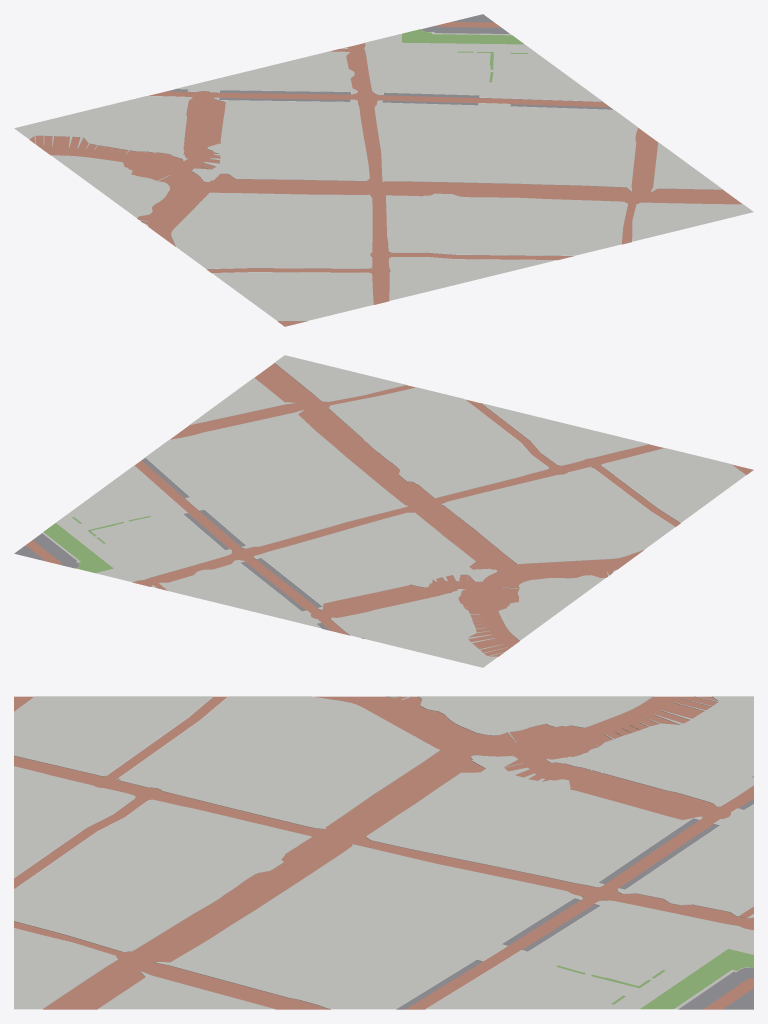
File: ground_8_9.glb
3 views of the same model, one above another, from view 1: azimuth 30°, elevation 25°; view 2: azimuth 150°, elevation 25°; view 3: azimuth 270°, elevation 25° (orthographic). The views are drawn at different scales.
Parts seen in each view (by area): view 1: ground_8_9; view 2: ground_8_9; view 3: ground_8_9.
Boxes of the visible parts, x1,y1,x2,y2 form: ground_8_9: (14,14,753,326); ground_8_9: (14,355,753,667); ground_8_9: (14,696,753,1009).
Size of the model in its own units: 200 by 0.12 by 200.
